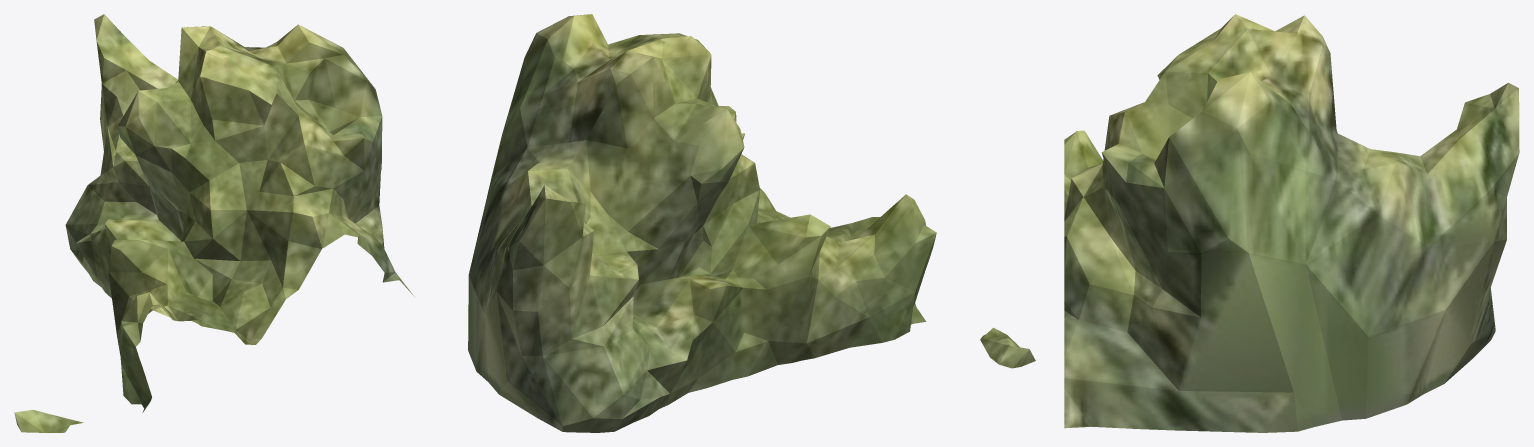
The picture shows the model from 3 angles, left to right: view 1: azimuth 30°, elevation 25°; view 2: azimuth 150°, elevation 25°; view 3: azimuth 270°, elevation 25°; orthographic projection. The views are drawn at different scales.
Size of the model in its own units: 6.52 by 4.15 by 5.28.
Materials: 1 (1 with a texture image).
